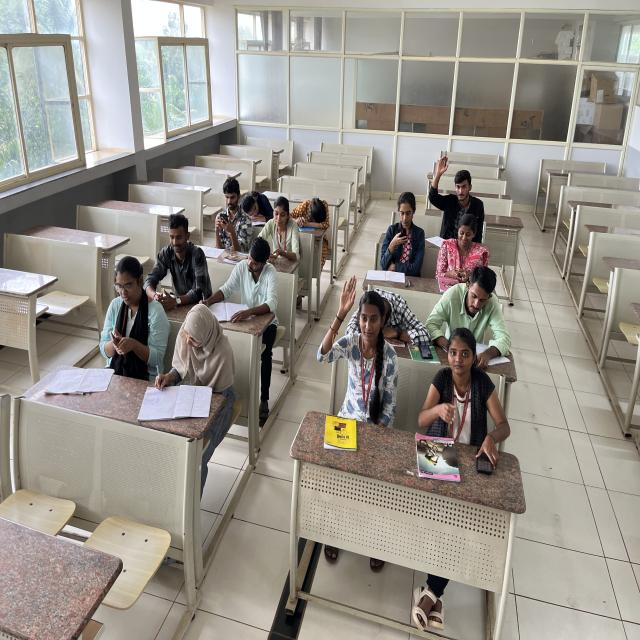Hand Rising: (317, 276, 397, 408), (426, 155, 483, 231)
Sleeping: (359, 288, 425, 345), (292, 193, 335, 231), (242, 189, 275, 225)
Using Phone: (98, 257, 169, 362), (378, 192, 424, 266), (444, 213, 493, 280), (206, 177, 246, 243)
Writing: (151, 301, 240, 411), (429, 265, 514, 365), (199, 243, 275, 324)
